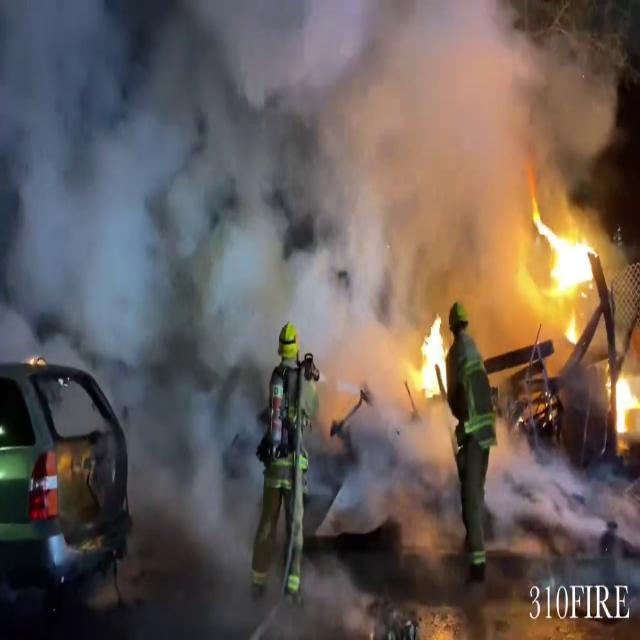Fire: (526, 201, 606, 301), (403, 307, 455, 404), (609, 366, 639, 438)
Smoke: (2, 0, 606, 303)
